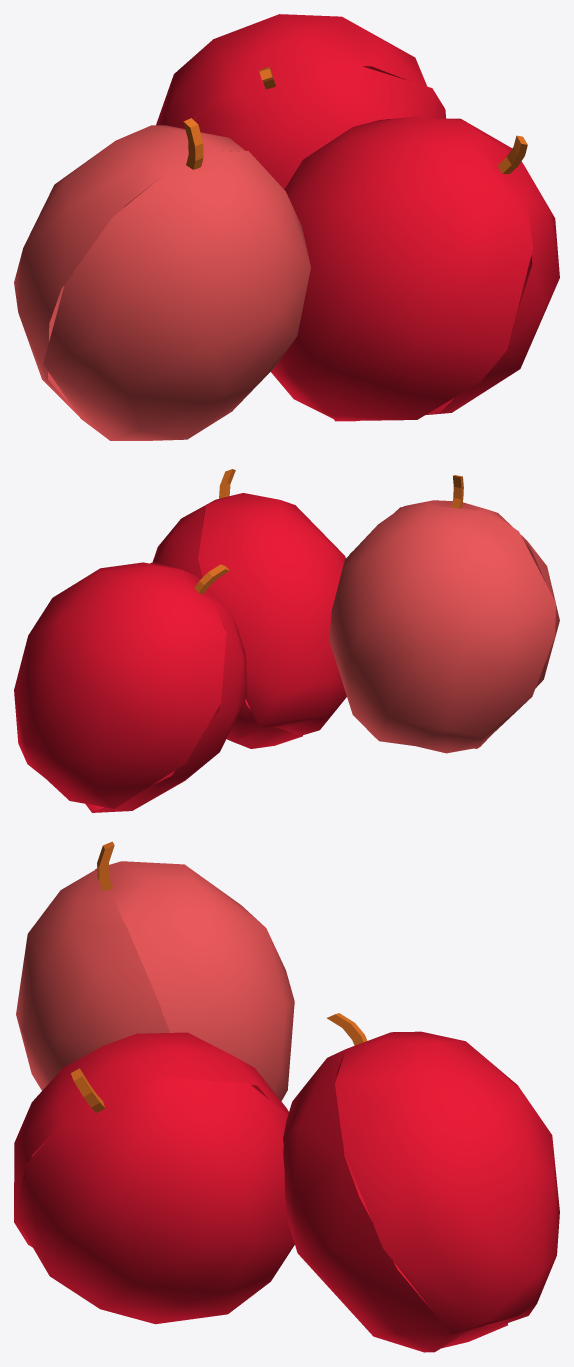
File: Apples.fbx
3 renders of one model, top to bottom at view 1: azimuth 30°, elevation 25°; view 2: azimuth 150°, elevation 25°; view 3: azimuth 270°, elevation 25°, orthographic. The views are drawn at different scales.
Parts seen in each view (by area): view 1: Apple, Apple.001, Apple.002; view 2: Apple, Apple.002, Apple.001; view 3: Apple.002, Apple.001, Apple.
Boxes of the visible parts, x1=… form: Apple: x1=14, y1=118, x2=310, y2=440; Apple.001: x1=271, y1=116, x2=559, y2=421; Apple.002: x1=156, y1=14, x2=446, y2=189; Apple: x1=329, y1=475, x2=559, y2=753; Apple.002: x1=14, y1=562, x2=246, y2=812; Apple.001: x1=152, y1=469, x2=346, y2=748; Apple.002: x1=283, y1=1013, x2=559, y2=1352; Apple.001: x1=14, y1=1032, x2=294, y2=1324; Apple: x1=16, y1=841, x2=294, y2=1100.
Bounding box in the file's own units: 22.05 × 14.88 × 20.05.
